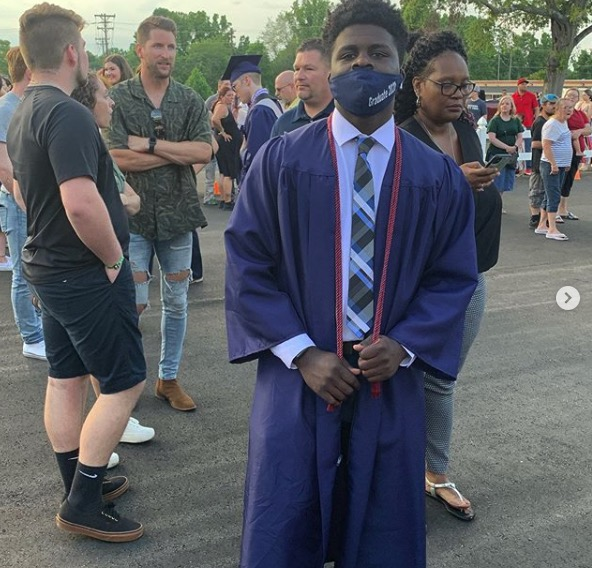mask_weared_incorrect: (335, 43, 401, 106)
without_mask: (430, 66, 473, 119), (147, 30, 179, 77), (294, 57, 324, 103), (74, 30, 95, 88), (98, 87, 117, 127), (274, 77, 292, 105), (230, 77, 250, 102), (104, 63, 123, 84), (560, 101, 577, 121), (498, 98, 513, 116), (221, 91, 234, 107), (564, 91, 580, 104), (546, 100, 557, 115), (519, 82, 529, 92), (582, 91, 590, 103)
